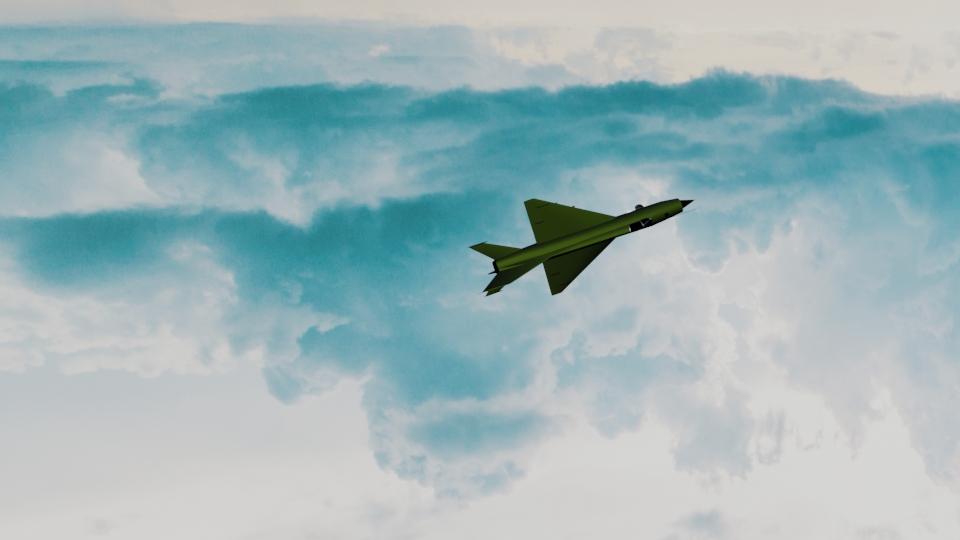plane: (470, 184, 697, 295)
